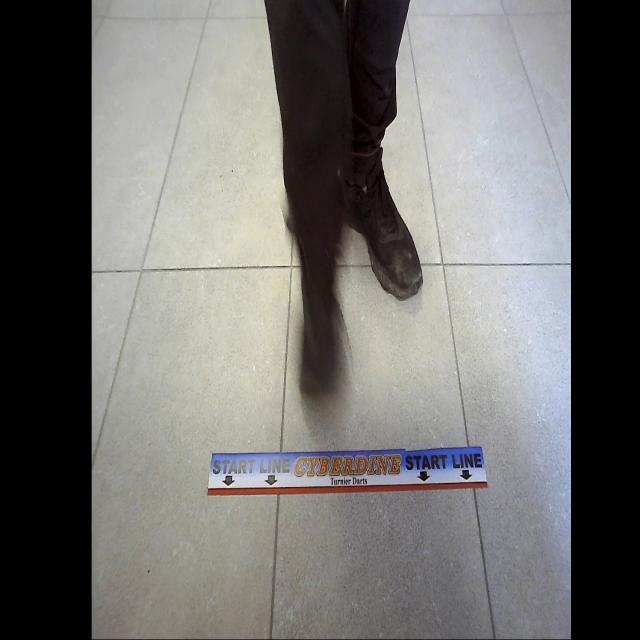foot: (339, 147, 423, 300)
